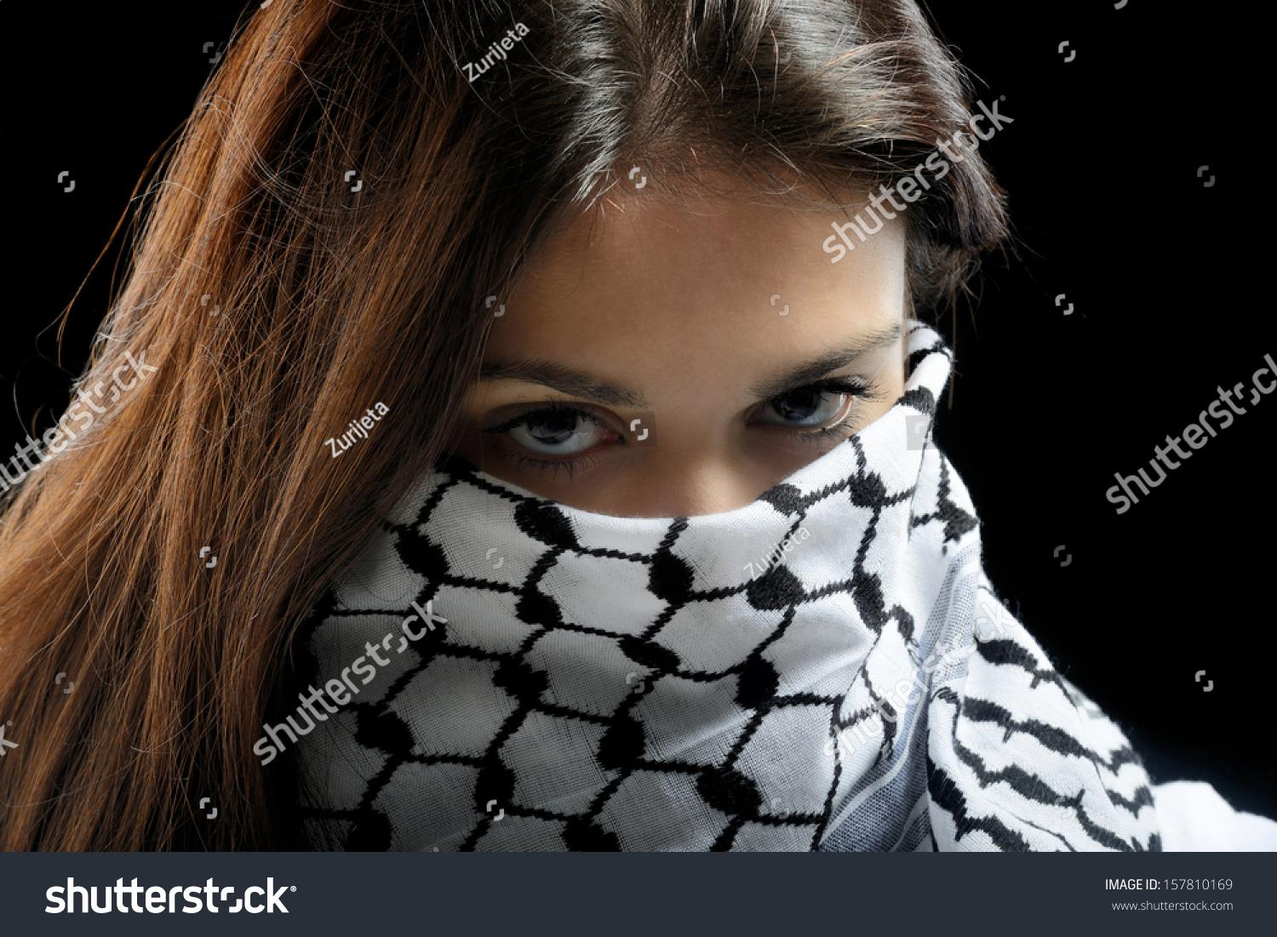scarf-kerchief: (292, 303, 1277, 862)
